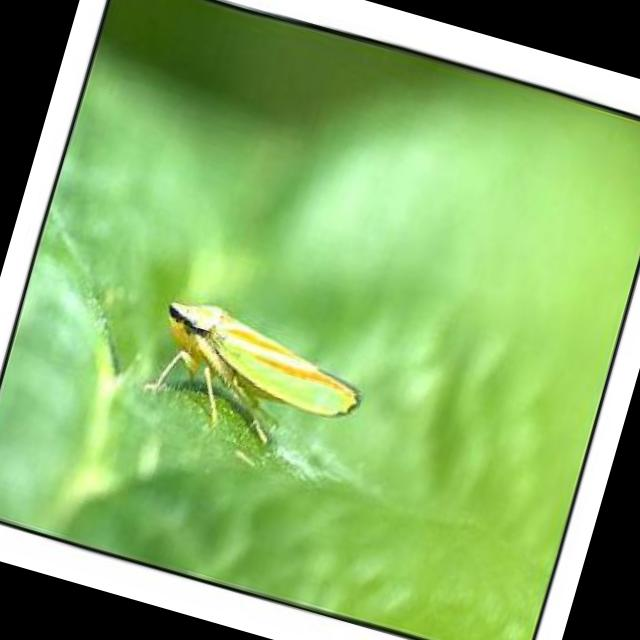green-leafhopper: (132, 291, 370, 470)
